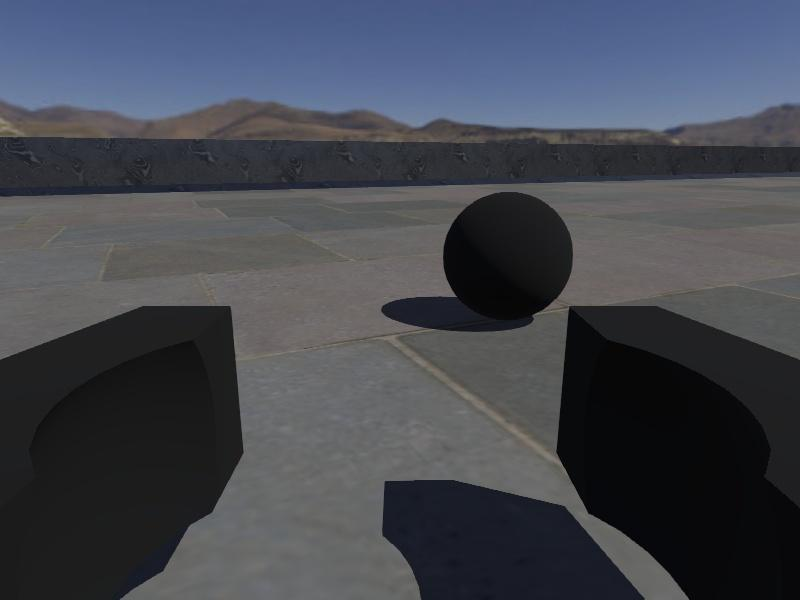black ball: (442, 192, 575, 322)
